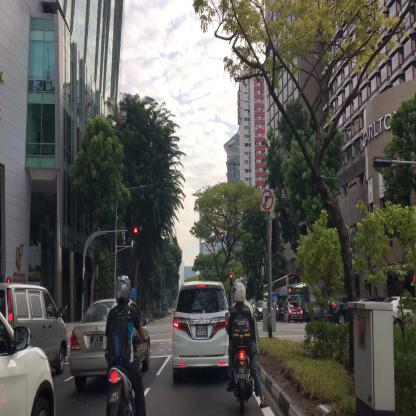red_traffic_light: (128, 227, 138, 234), (230, 273, 232, 286)
